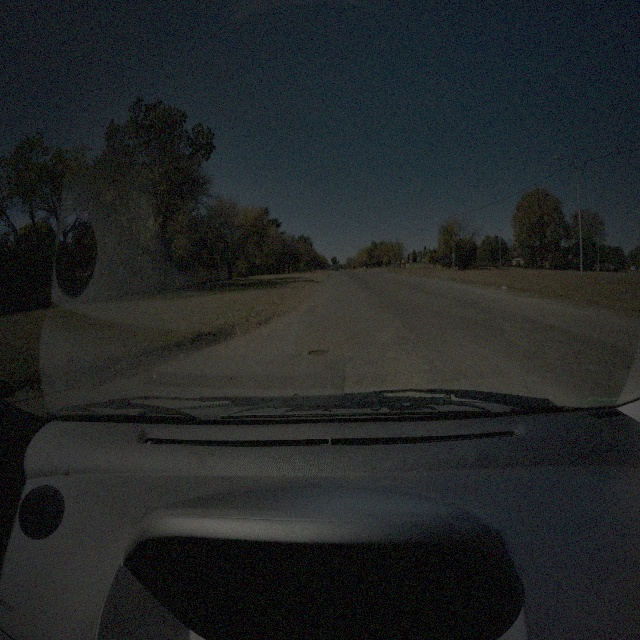pothole: (305, 344, 330, 357)
